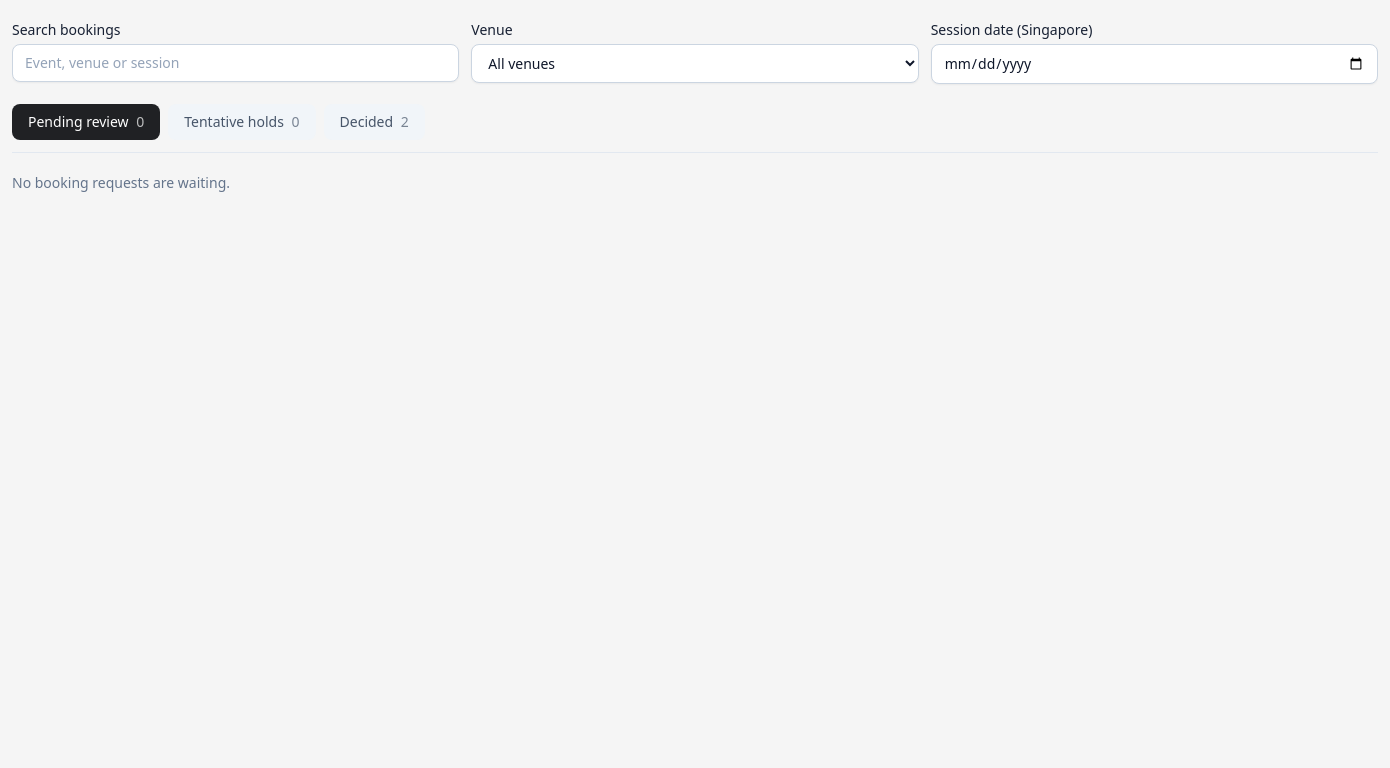
shows each decided request by its own status
What coordinates should you click on to do the following:
click the button "Decided 2"
I would click on:
 (374, 122)
Its box is [324,104,425,140].
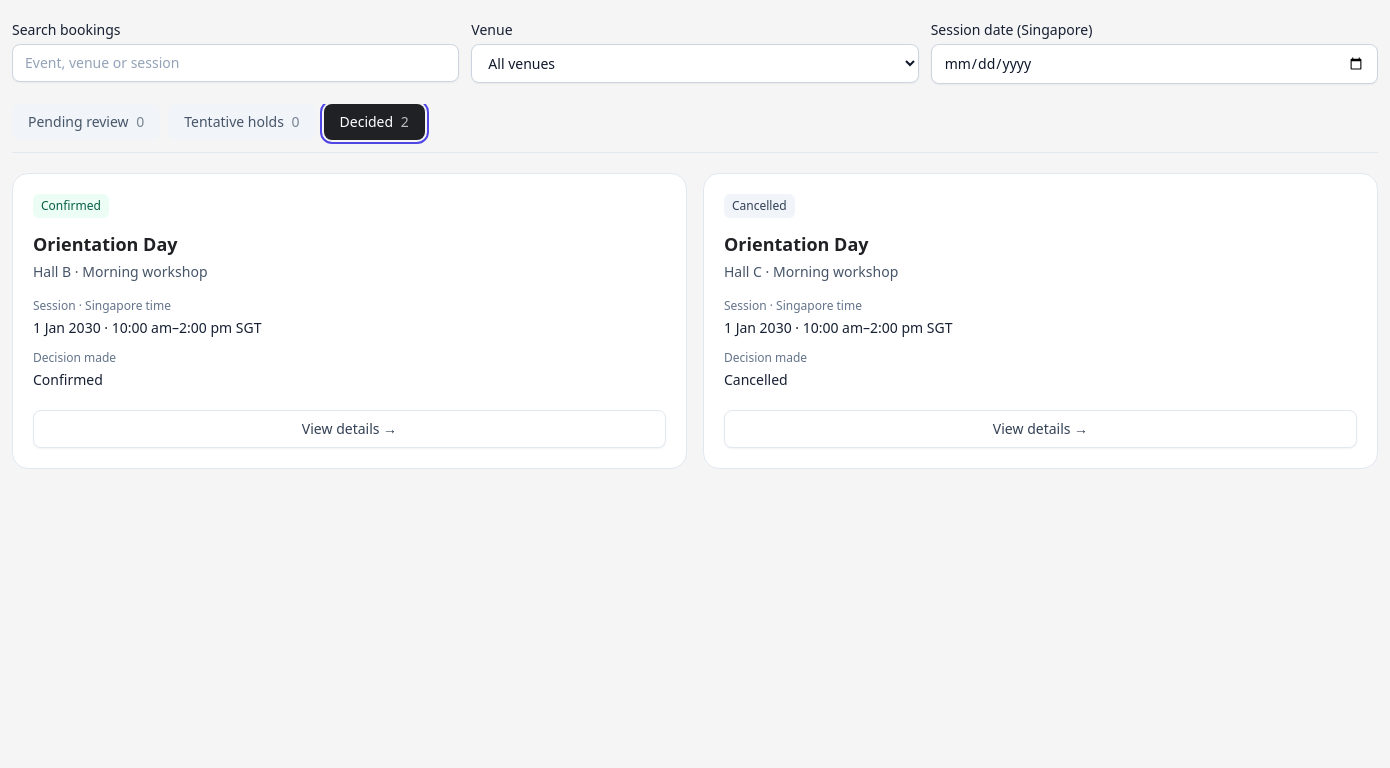
Now the 1st text "Confirmed" is shown, box [33,194,109,218]
Now the 1st text "Cancelled" is shown, box [724,194,795,218]
Now the text "Session · Singapore time" is shown 2 times, box [33,297,171,314]; [724,297,862,314]
What coordinates should you click on to do the following:
click the button with aria-label "View booking for Orientation Day at Hall B"
I would click on:
 (350, 429)
Its box is [33,410,666,448].
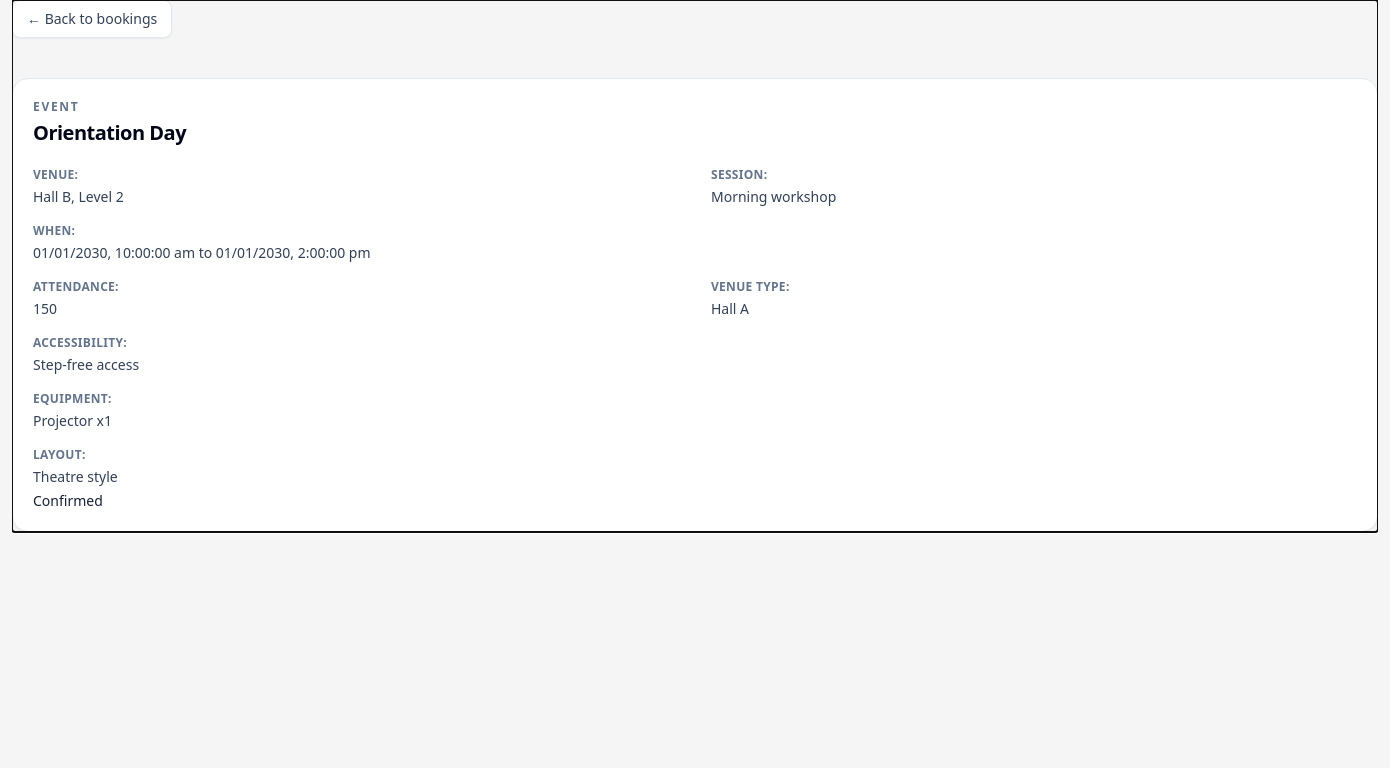
Now the button "← Back to bookings" is shown, box [12,0,172,38]
